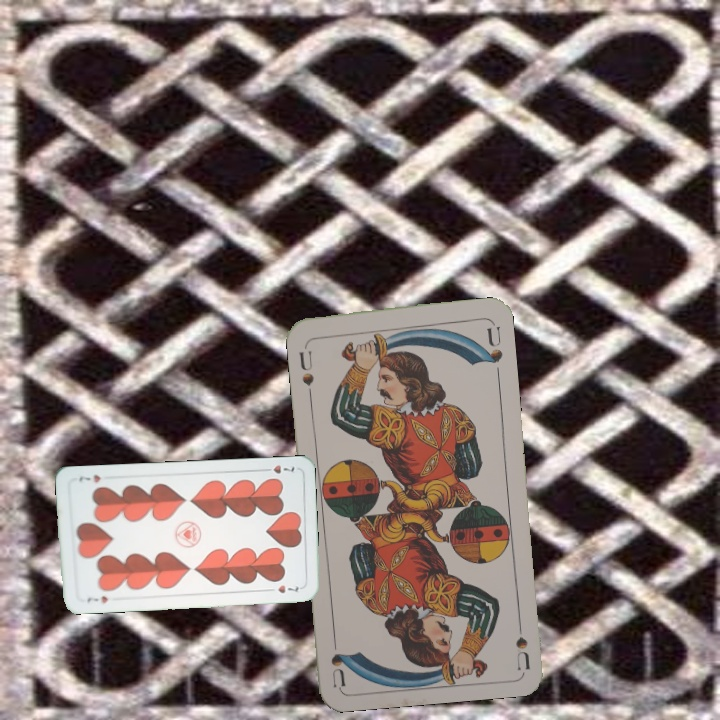H7: (258, 461, 297, 476), (83, 592, 110, 606)
SU: (512, 611, 532, 670), (295, 338, 316, 388)
